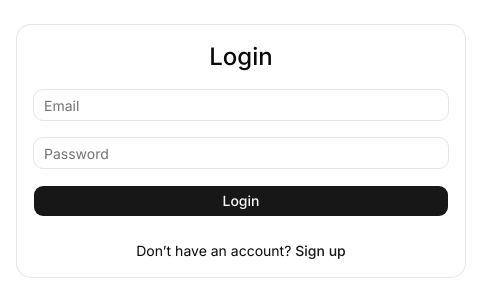
Test: AuthForm › shows login mode by default and toggles to signup/login
This screenshot has width=483, height=303.
Expected: the text "login" is shown, [209,42,273,71]
Expected: the field with placeholder "Email" is shown, [33,89,449,121]
Click the button "Sign up" at (321, 251), box [295,241,346,261]
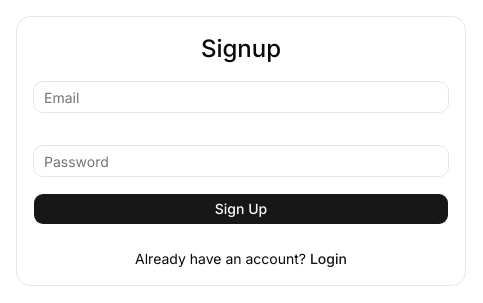
Expected: the form with placeholder "Display Name" is shown, [33,81,449,225]
Result: the text "signup" is shown at [201,34,281,63]
Result: the button "Sign Up" is shown at [33,193,449,225]
Click the button "Login" at (328, 259), box [310,249,347,269]
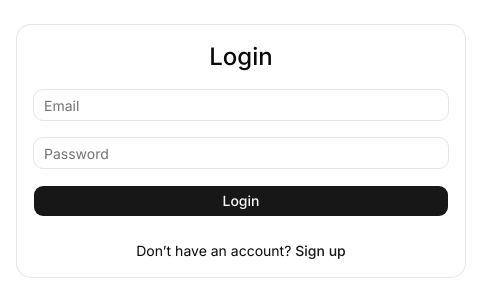
Result: the text "login" is shown at [209,42,273,71]
